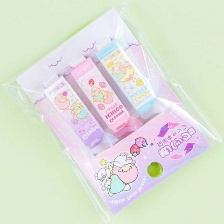carton: (67, 55, 131, 135), (41, 73, 105, 151), (95, 43, 158, 116)
